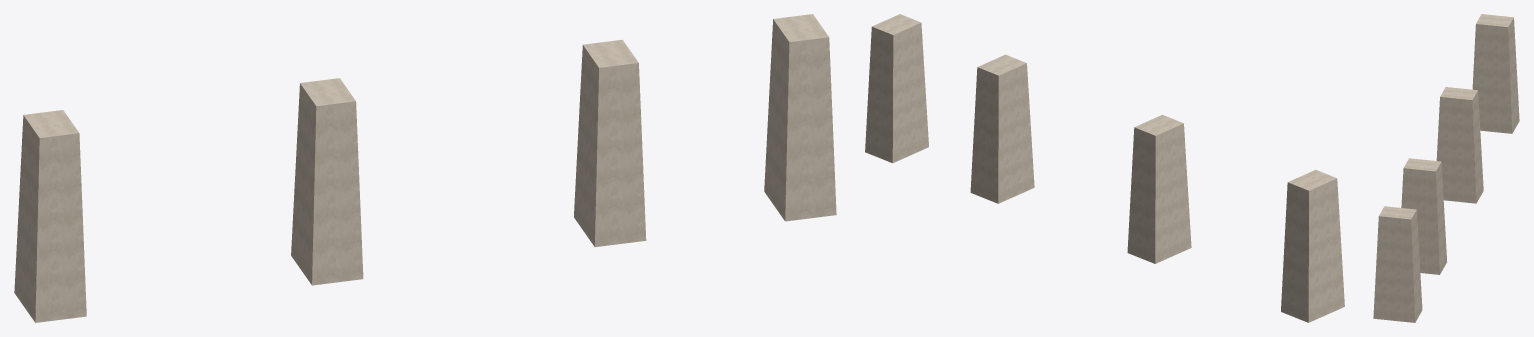
Rendered from des_railbr_twr05.obj.
The picture shows the model from 3 angles, left to right: view 1: azimuth 30°, elevation 25°; view 2: azimuth 150°, elevation 25°; view 3: azimuth 270°, elevation 25°; orthographic projection. The views are drawn at different scales.
Parts seen in each view (by area): view 1: des_railbr_twr05; view 2: des_railbr_twr05; view 3: des_railbr_twr05.
Boxes of the visible parts, left/top/right/bottom form: des_railbr_twr05: left=14, top=14, right=836, bottom=322; des_railbr_twr05: left=865, top=14, right=1344, bottom=322; des_railbr_twr05: left=1373, top=14, right=1519, bottom=322.
Size of the model in its own units: 162 by 38.38 by 48.43.
Materials: 1 (1 with a texture image).
